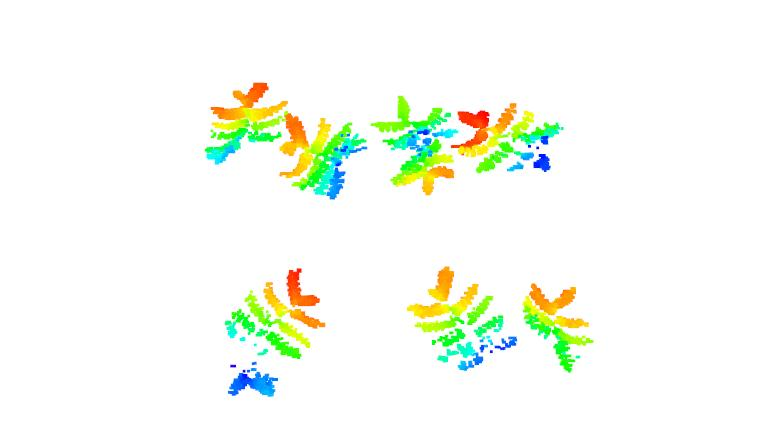chickpea: (221, 267, 325, 402), (409, 266, 515, 371), (451, 99, 567, 174), (372, 93, 457, 194), (279, 111, 368, 200), (204, 79, 288, 166), (525, 284, 593, 373)
